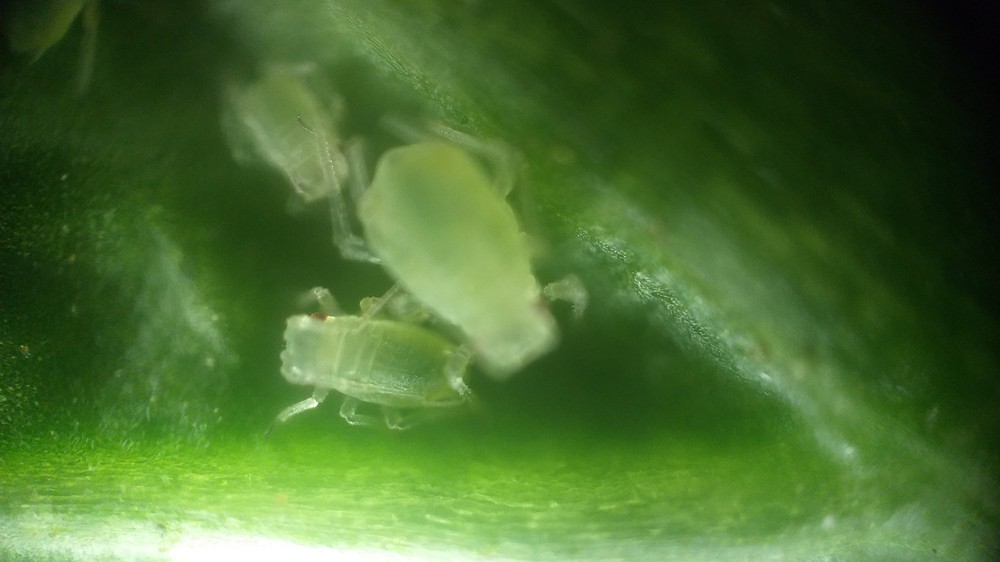Pulgon: (323, 109, 595, 378), (258, 274, 497, 440), (200, 49, 379, 216)
